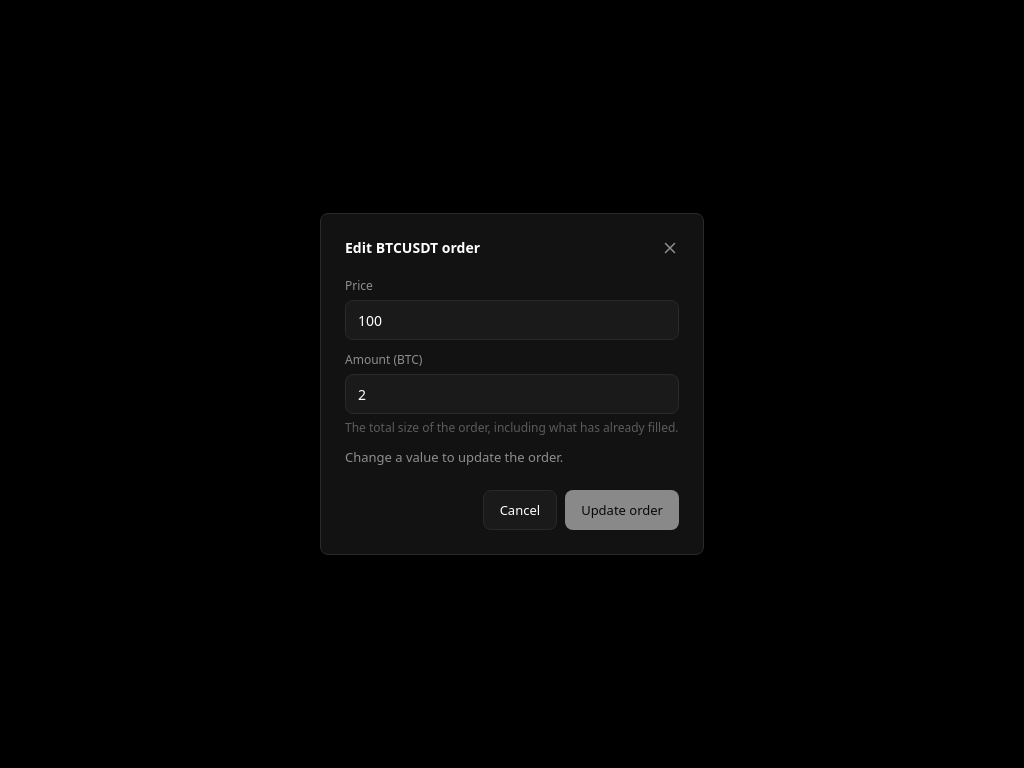
Scenario: AmendOrder › a failed PATCH is shown, never resent, and the dialog stays open
Step 1. Replace the text in the field labelled "Price" with "101" → (512,320), box [345, 300, 679, 340]
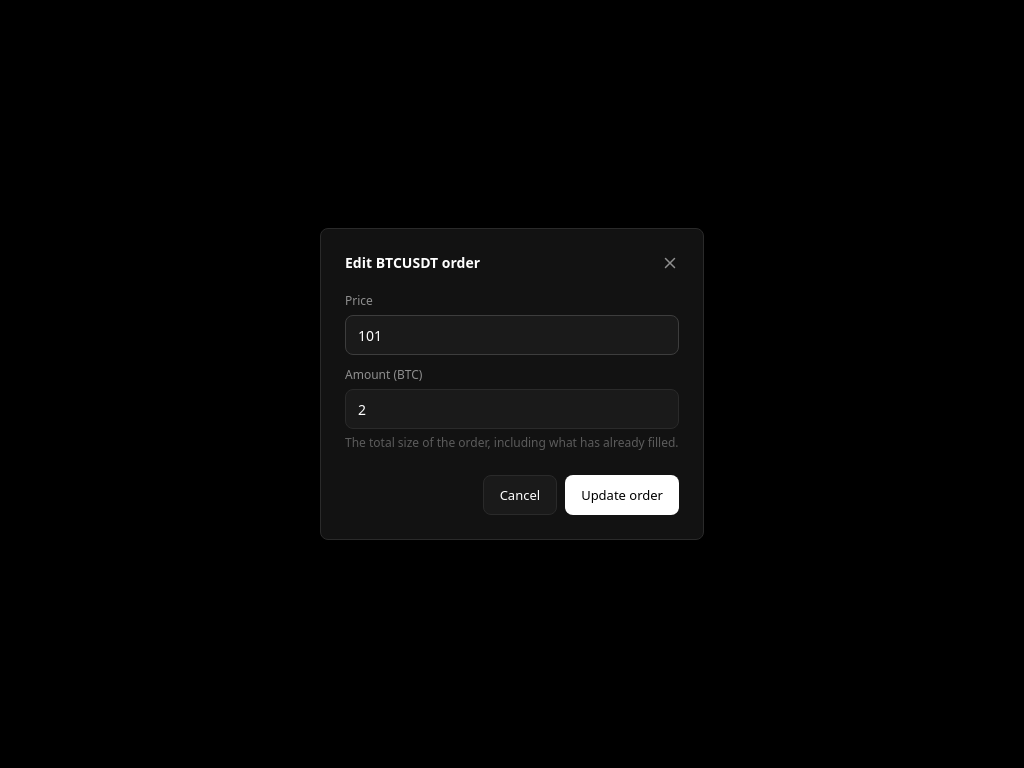
Step 2. Click the button "Update order" → (622,495), box [565, 475, 679, 515]
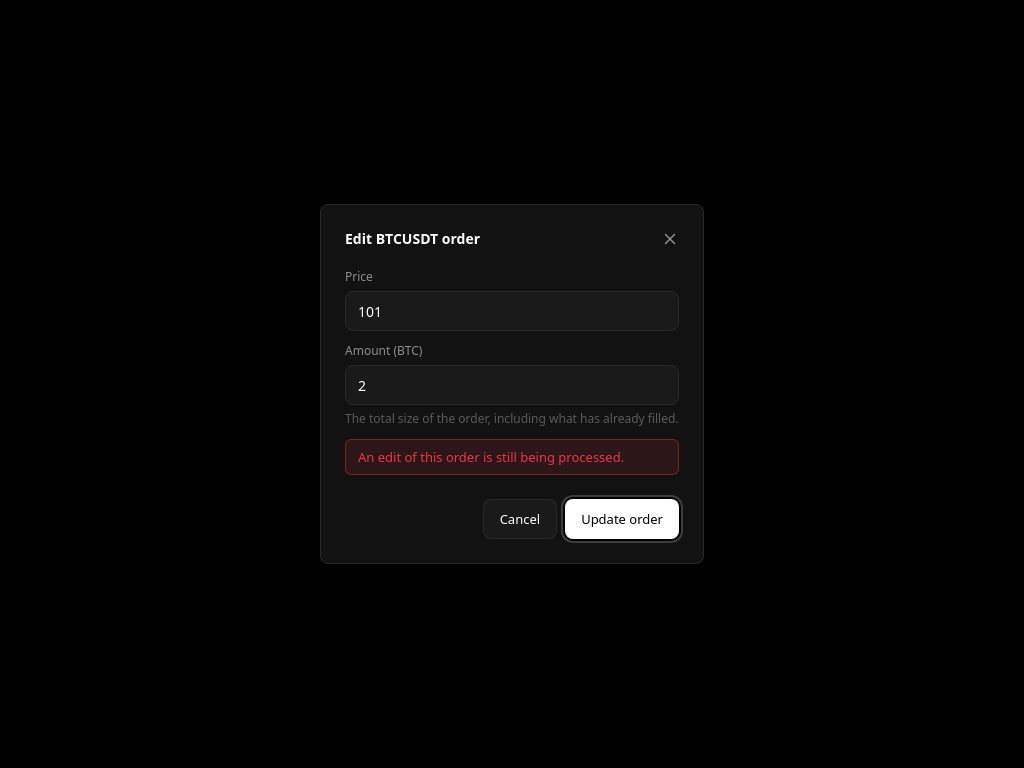
Expected: the message reads "An edit of this order is still being processed.", [358, 448, 624, 466]
